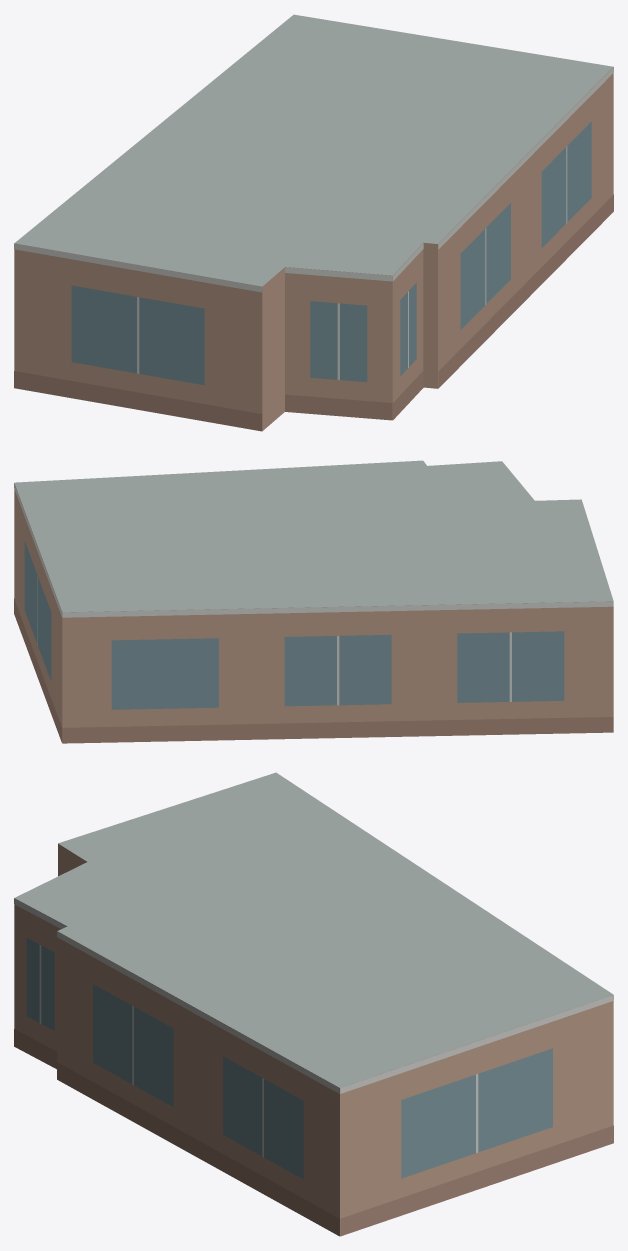
File: survey-upis-32626362.glb
The picture shows the model from 3 angles, top to bottom: view 1: azimuth 30°, elevation 25°; view 2: azimuth 150°, elevation 25°; view 3: azimuth 270°, elevation 25°; orthographic projection. The views are drawn at different scales.
Parts seen in each view (by area): view 1: survey-upis-32626362.tmp; view 2: survey-upis-32626362.tmp; view 3: survey-upis-32626362.tmp.
Boxes of the visible parts, left/top/right/bottom form: survey-upis-32626362.tmp: left=14, top=14, right=613, bottom=431; survey-upis-32626362.tmp: left=14, top=460, right=613, bottom=743; survey-upis-32626362.tmp: left=14, top=772, right=613, bottom=1236.
Size of the model in its own units: 13.91 by 3.05 by 11.17.
